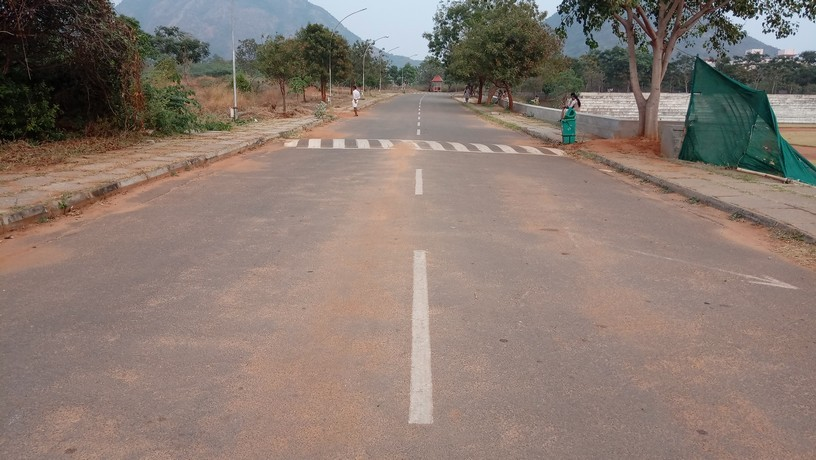bump: (275, 138, 567, 154)
